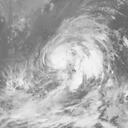cyclone: (38, 26, 89, 79)
